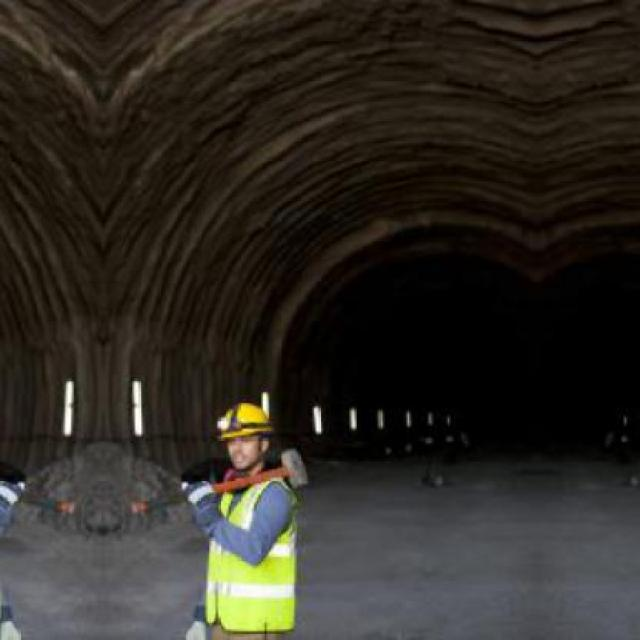helmet: (216, 399, 273, 468)
